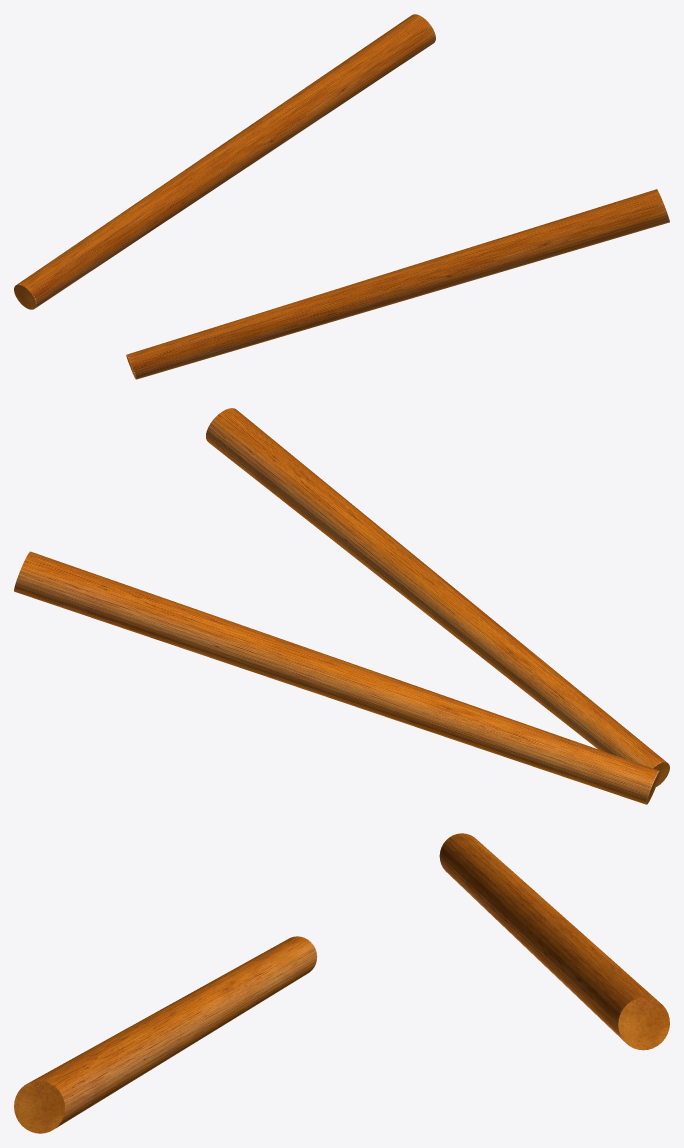
Rendered from matraca.glb.
3 renders of one model, top to bottom at view 1: azimuth 30°, elevation 25°; view 2: azimuth 150°, elevation 25°; view 3: azimuth 270°, elevation 25°, orthographic. The views are drawn at different scales.
Visible parts, largest first — view 1: Cylinder.003; view 2: Cylinder.003; view 3: Cylinder.003.
Boxes of the visible parts, x1,y1,x2,y2 form: Cylinder.003: (14, 14, 669, 379); Cylinder.003: (14, 408, 669, 804); Cylinder.003: (14, 833, 669, 1133).
Bounding box in the file's own units: 1.82 × 0.6165 × 1.36.
Materials: 2 (2 with a texture image).
